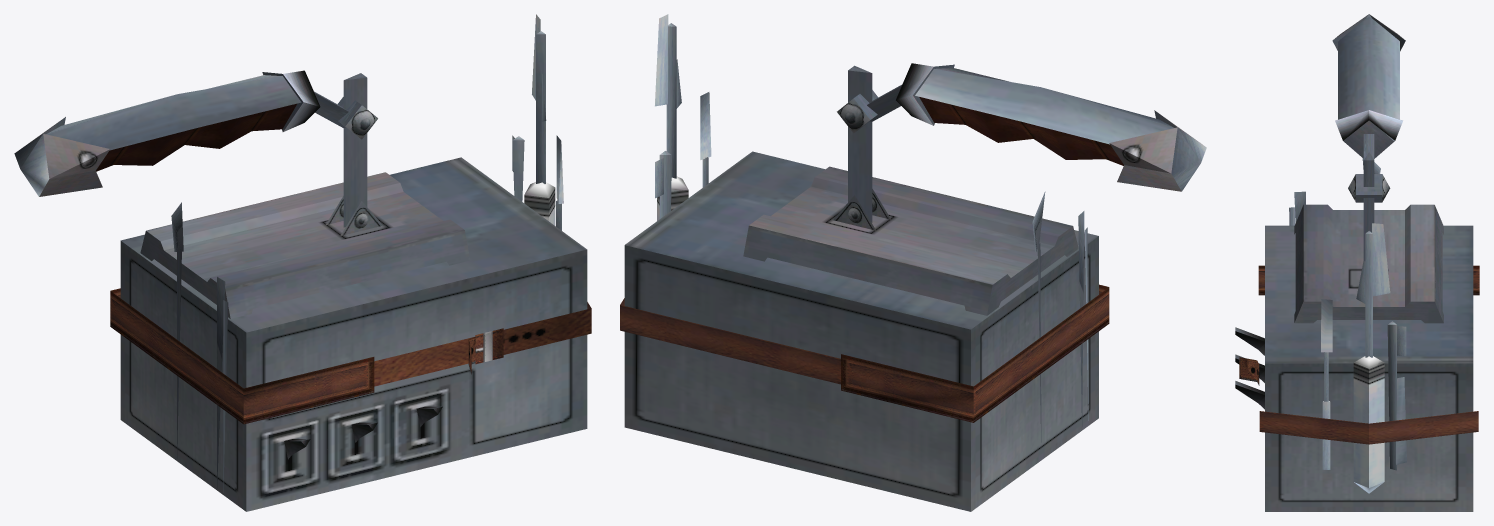
Rendered from eqp_tool_droid_toolkit_l0.fbx.
3 views of the same model, side by side, from view 1: azimuth 30°, elevation 25°; view 2: azimuth 150°, elevation 25°; view 3: azimuth 270°, elevation 25° (orthographic). The views are drawn at different scales.
Parts seen in each view (by area): view 1: mesh_node; view 2: mesh_node; view 3: mesh_node.
Part boxes in pixels (<box>): mesh_node: <box>14,14,591,511</box>; mesh_node: <box>620,14,1206,511</box>; mesh_node: <box>1235,14,1479,511</box>.
Size of the model in its own units: 0.826 by 0.5491 by 0.3934.
